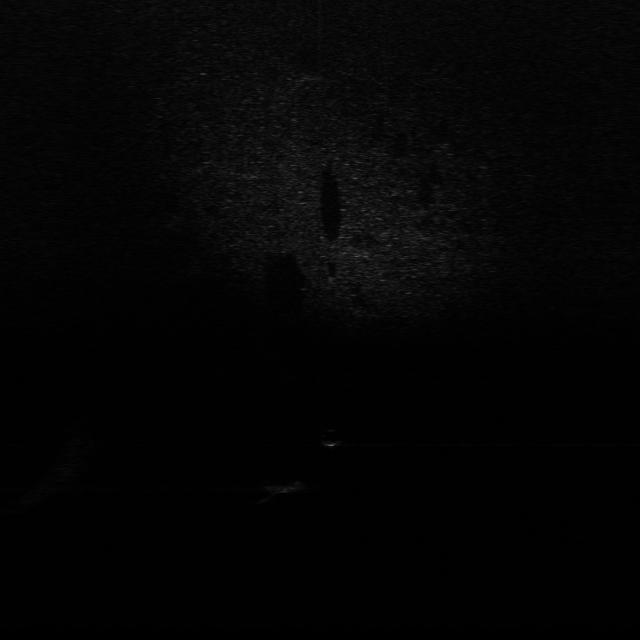ball: (317, 425, 348, 450)
square cage: (262, 479, 316, 496)
